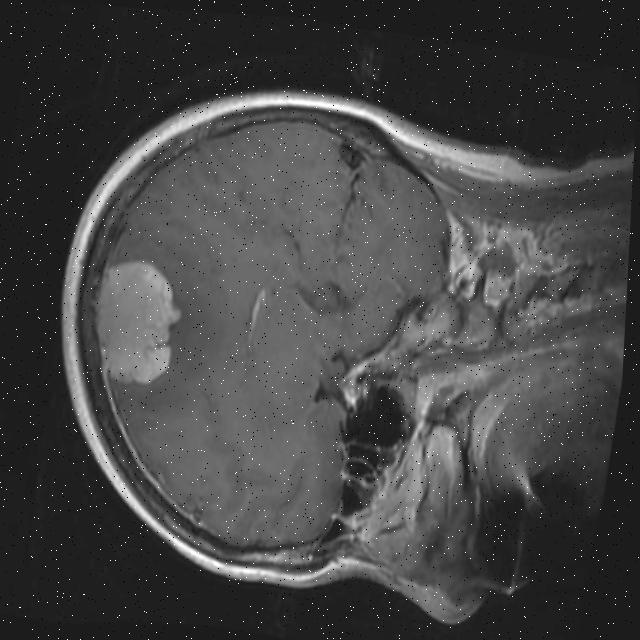Meningioma: (81, 250, 189, 392)
